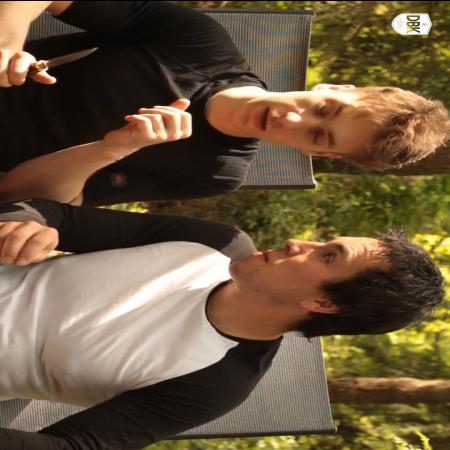long weapon: (1, 41, 114, 91)
